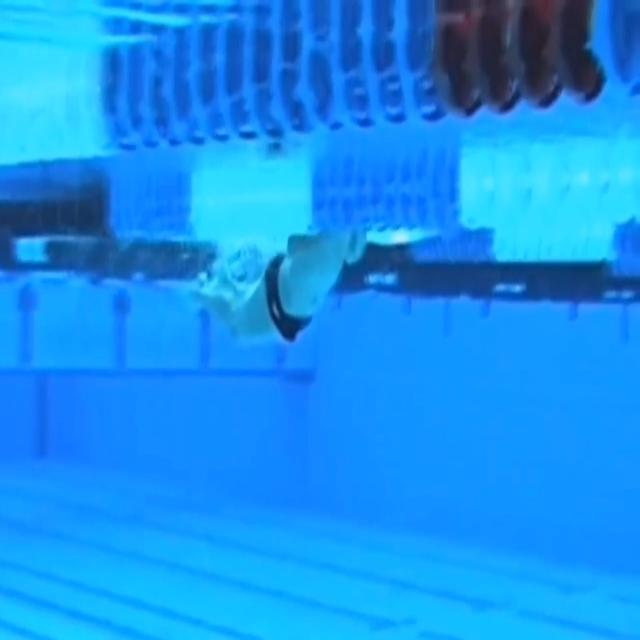Swimming: (192, 224, 369, 346)
